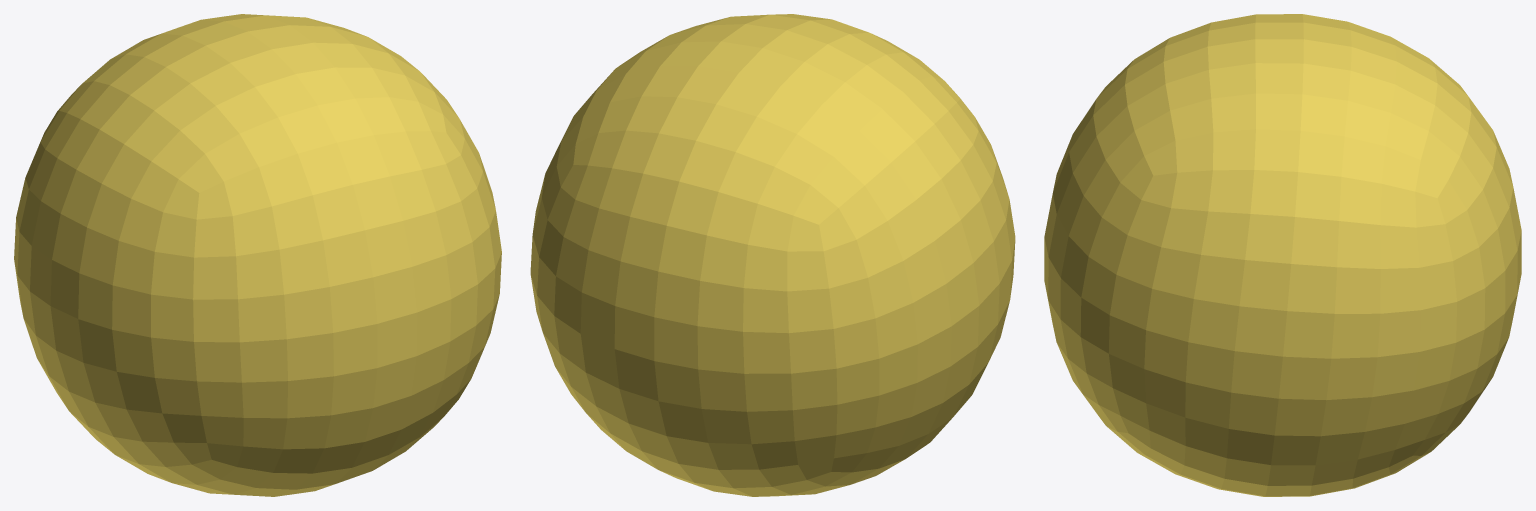
Rendered from confetti-ball.glb.
3 views of the same model, side by side, from view 1: azimuth 30°, elevation 25°; view 2: azimuth 150°, elevation 25°; view 3: azimuth 270°, elevation 25° (orthographic).
Visible parts, largest first — view 1: Cube.001, Cube; view 2: Cube, Cube.001; view 3: Cube.001, Cube.
Boxes of the visible parts, x1=… form: Cube.001: x1=50, y1=25, x2=501, y2=496; Cube: x1=14, y1=14, x2=366, y2=454; Cube: x1=530, y1=41, x2=979, y2=496; Cube.001: x1=618, y1=14, x2=1015, y2=416; Cube.001: x1=1044, y1=14, x2=1303, y2=496; Cube: x1=1264, y1=14, x2=1521, y2=496.
Size of the model in its own units: 1.68 by 1.67 by 1.67.
